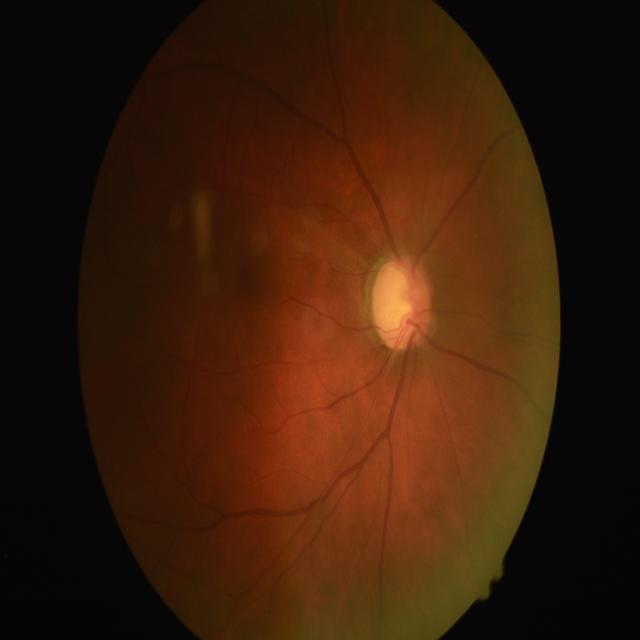cup: (382, 268, 419, 336)
disk: (372, 259, 433, 349)
